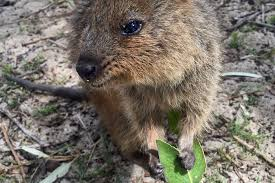quokka: (61, 0, 222, 167)
